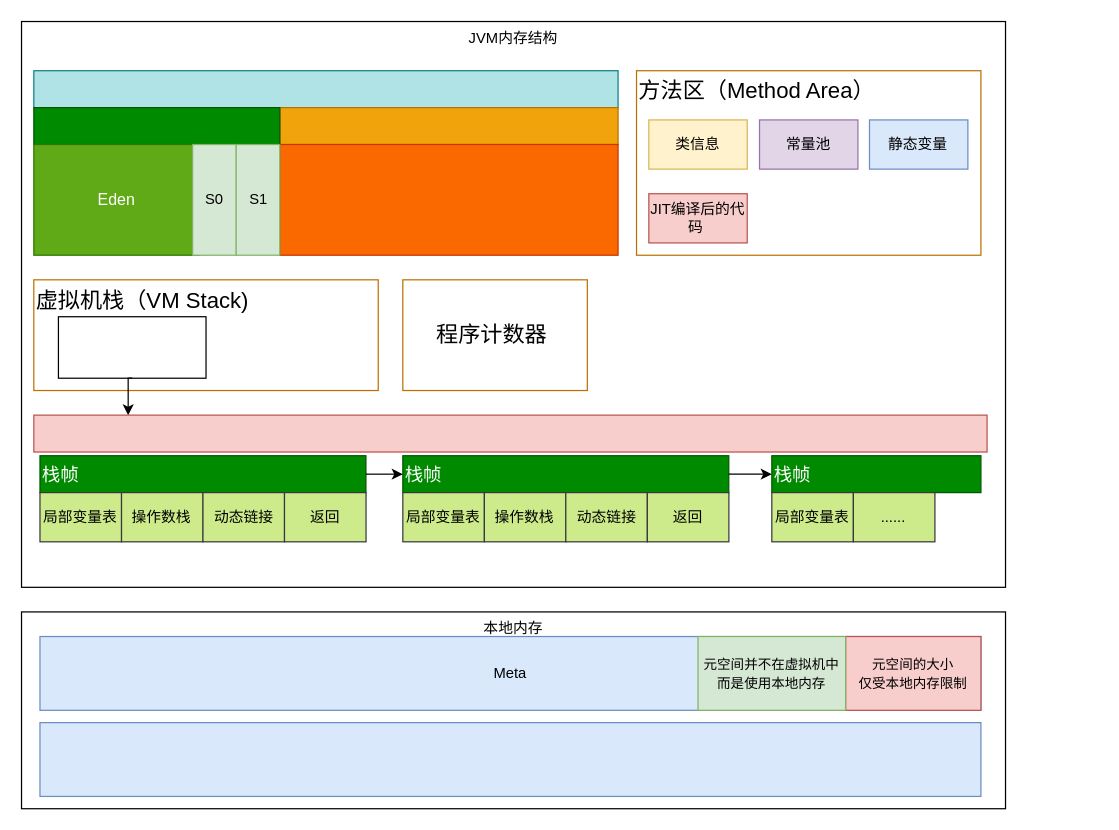
This 1119x830 diagram has some shape labels left out. Here are the shapes that lost their labels. From the top down, the centre of each, then its label:
pixel 325 88: 堆（Heap）
pixel 156 125: 新生代(Xmn)
pixel 448 125: 老年代
pixel 448 199: Tenured
pixel 131 346: Thread 方法调用
pixel 510 433: Xss(单个线程栈大小）
pixel 510 758: DirectMemory
